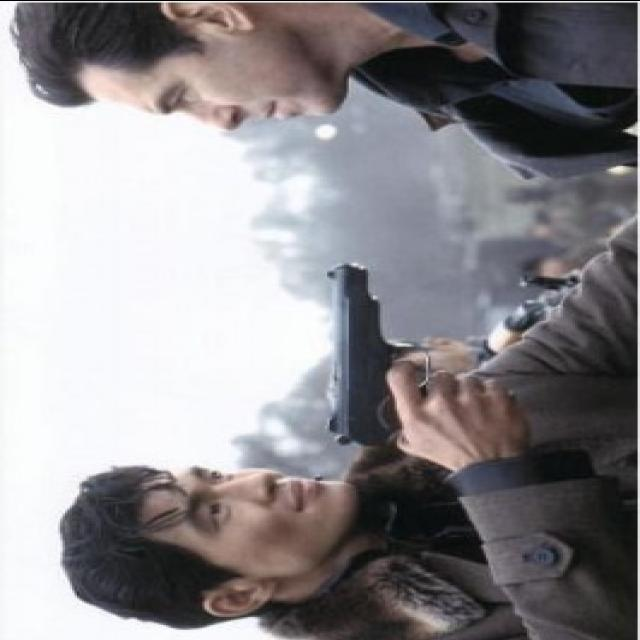weapons: (298, 248, 484, 468)
